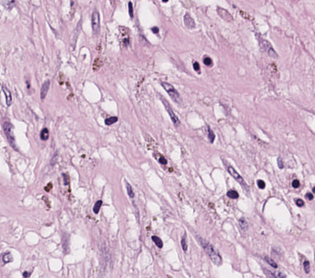nucleus: (161, 97, 179, 126), (161, 82, 181, 103), (258, 35, 277, 57), (227, 166, 246, 187), (217, 7, 232, 21), (91, 10, 99, 34), (40, 80, 49, 99), (184, 13, 194, 28), (151, 236, 162, 247), (126, 183, 134, 197), (105, 116, 117, 125), (93, 200, 101, 213), (40, 128, 48, 140), (239, 218, 247, 230), (203, 56, 212, 66), (208, 127, 214, 142), (227, 190, 238, 198), (181, 235, 186, 250), (158, 155, 166, 164), (257, 179, 265, 188), (193, 61, 199, 72), (295, 198, 303, 206), (128, 2, 132, 17), (50, 154, 56, 164), (292, 179, 299, 187), (45, 183, 51, 191), (277, 158, 282, 167), (306, 193, 313, 199), (152, 27, 158, 33), (124, 38, 129, 45), (312, 186, 314, 193)
